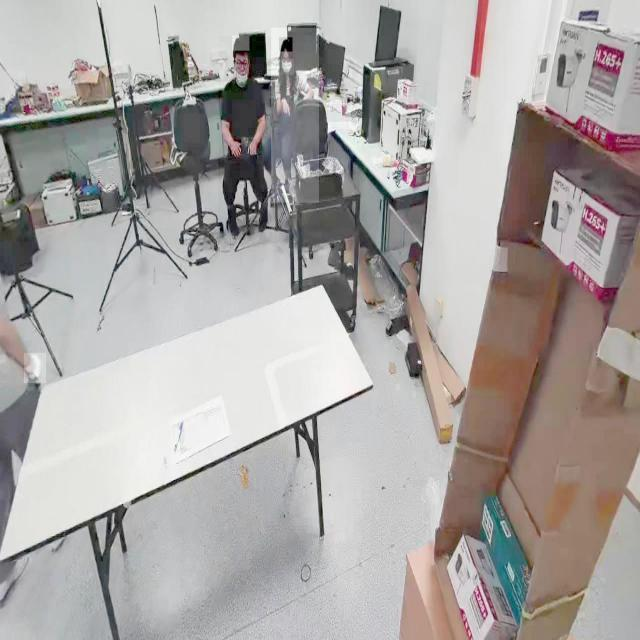gloves: (24, 353, 46, 384)
